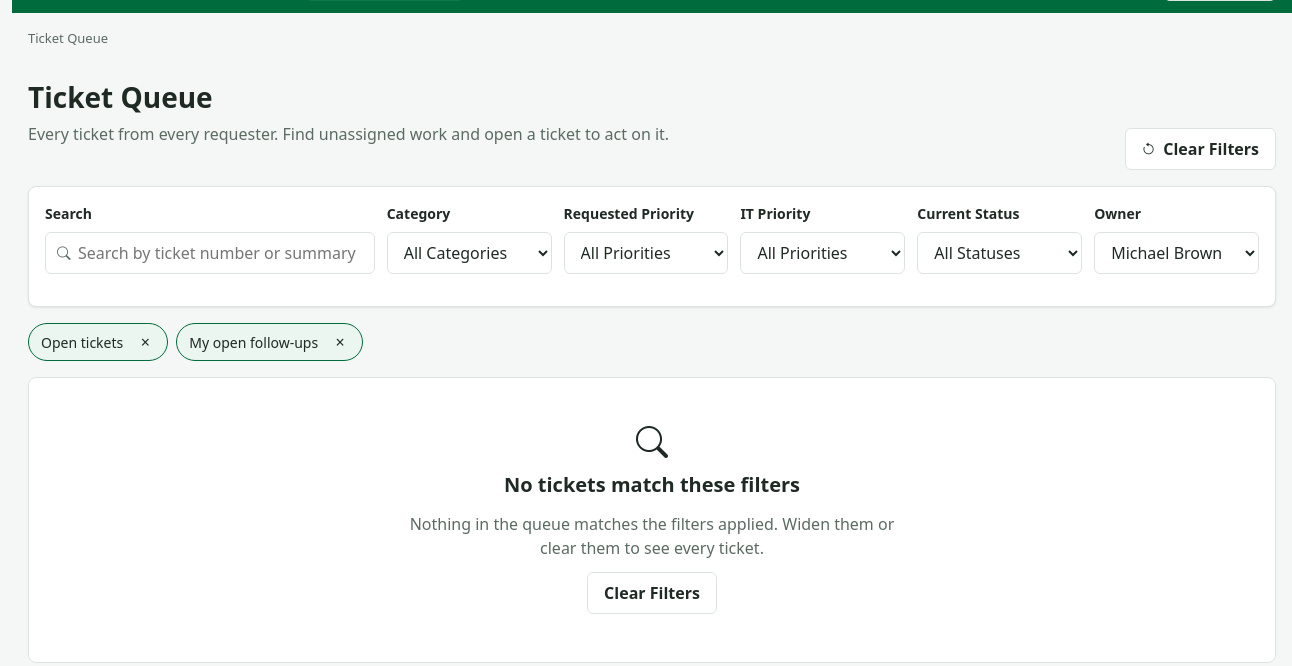
Test case: UI-18 the queue reads URL filters › Clear Filters empties the address as well as the controls
What coordinates should you click on to do the following:
click the 1st button "Clear Filters"
I would click on:
 (1200, 149)
Its box is [1125, 128, 1276, 170].
(page scrolled)
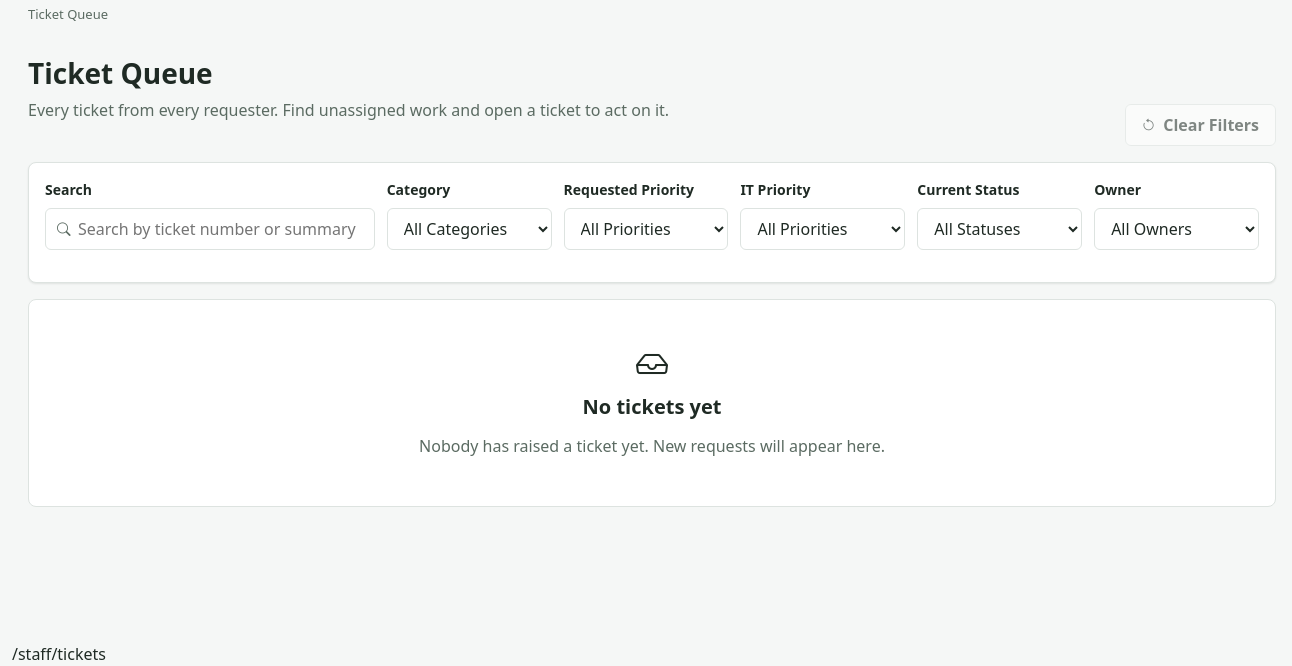
Result: the text with test id "where" reads "/staff/tickets" at [12, 643, 106, 665]
Result: the text "Open tickets" is gone
